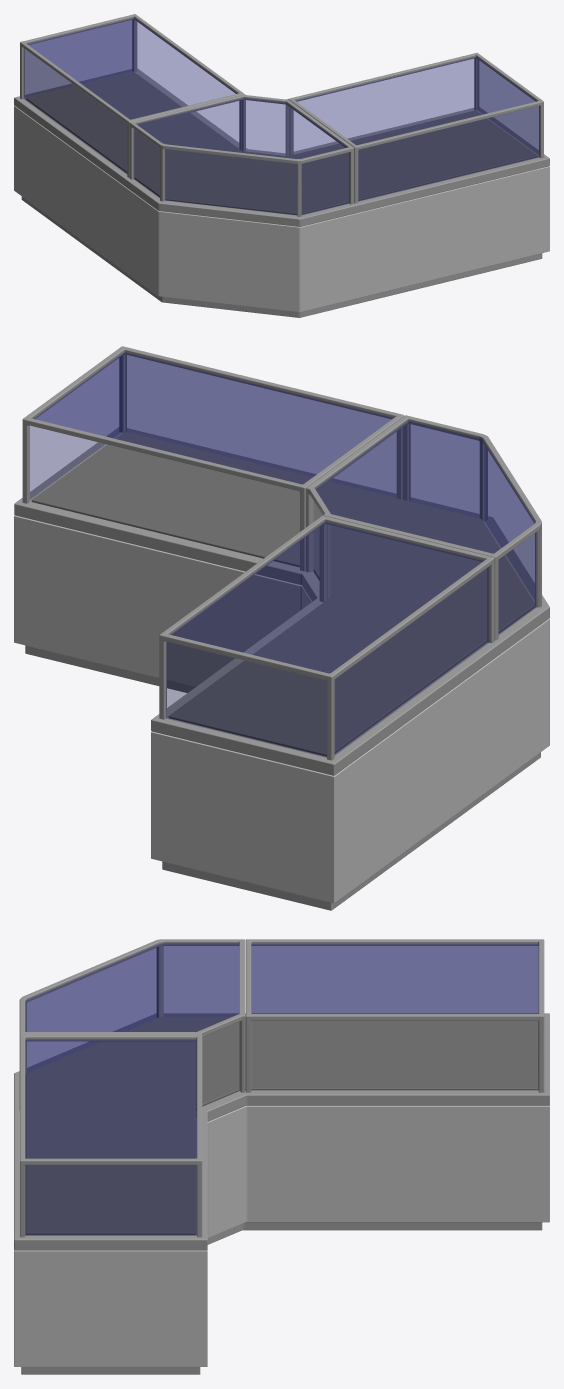
File: M_Clothes_Table01.fbx
3 renders of one model, top to bottom at view 1: azimuth 30°, elevation 25°; view 2: azimuth 150°, elevation 25°; view 3: azimuth 270°, elevation 25°, orthographic. The views are drawn at different scales.
Parts seen in each view (by area): view 1: M_Cloth_Table01; view 2: M_Cloth_Table01; view 3: M_Cloth_Table01.
Part boxes in pixels (x1,y1,x2,y2): M_Cloth_Table01: (14,14,549,317); M_Cloth_Table01: (14,346,549,910); M_Cloth_Table01: (14,939,549,1374).
Size of the model in its own units: 246 by 109 by 246.
